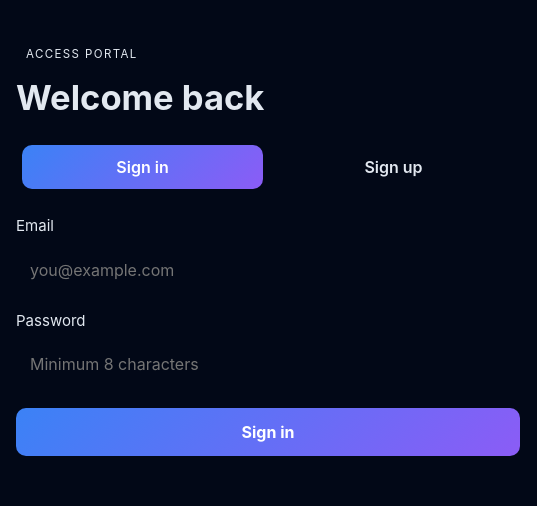
Test: AuthPage › renders a backend error and stays on the auth page
In the field with placeholder "you@example.com": (268, 270) 16,246 -> 520,294, type "ada@example.com"
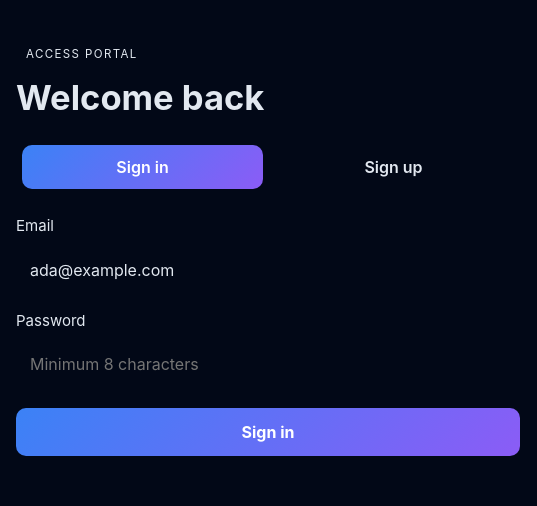
In the password field with placeholder "Minimum 8 characters": (268, 364) 16,340 -> 520,388, type "WrongPassword!"
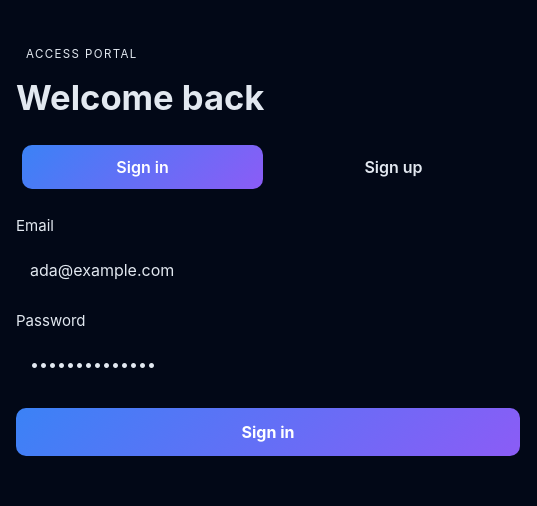
Click the button "Sign in" below "Password": (268, 432) 16,408 -> 520,456
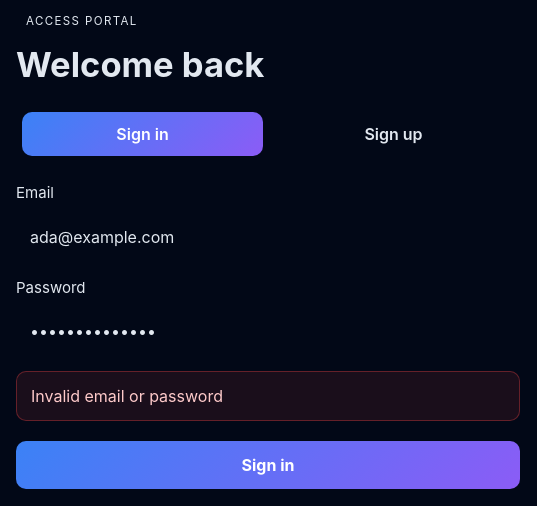
Now the text "Invalid email or password" is shown, box 16,371 -> 520,421
